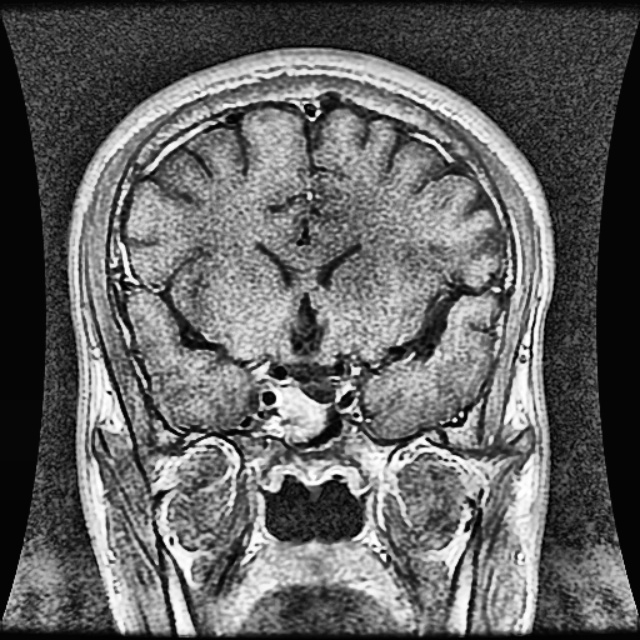Pituitary: (269, 385, 324, 434)
